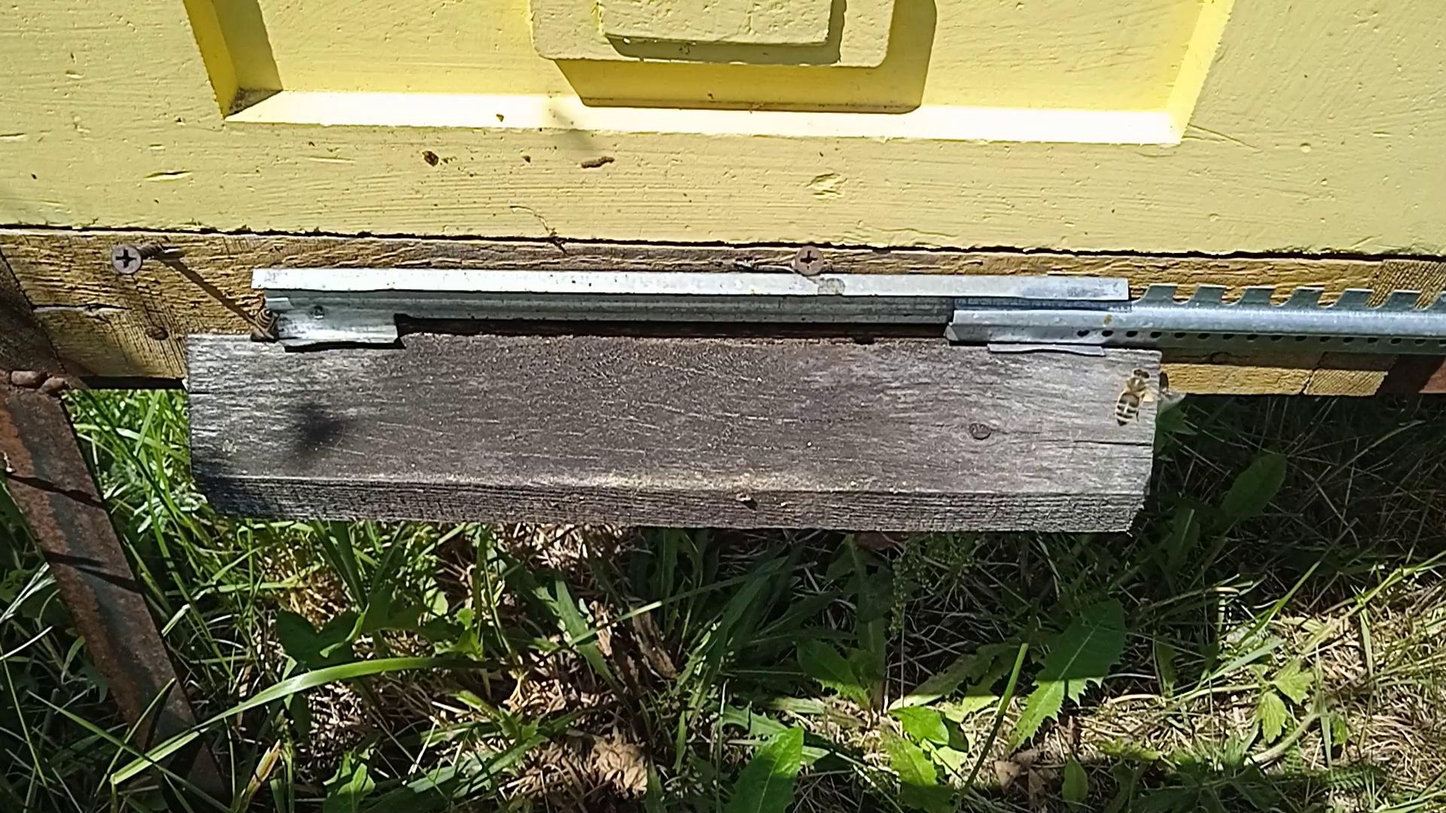worker-bee: (1112, 367, 1152, 426), (246, 308, 276, 342)
